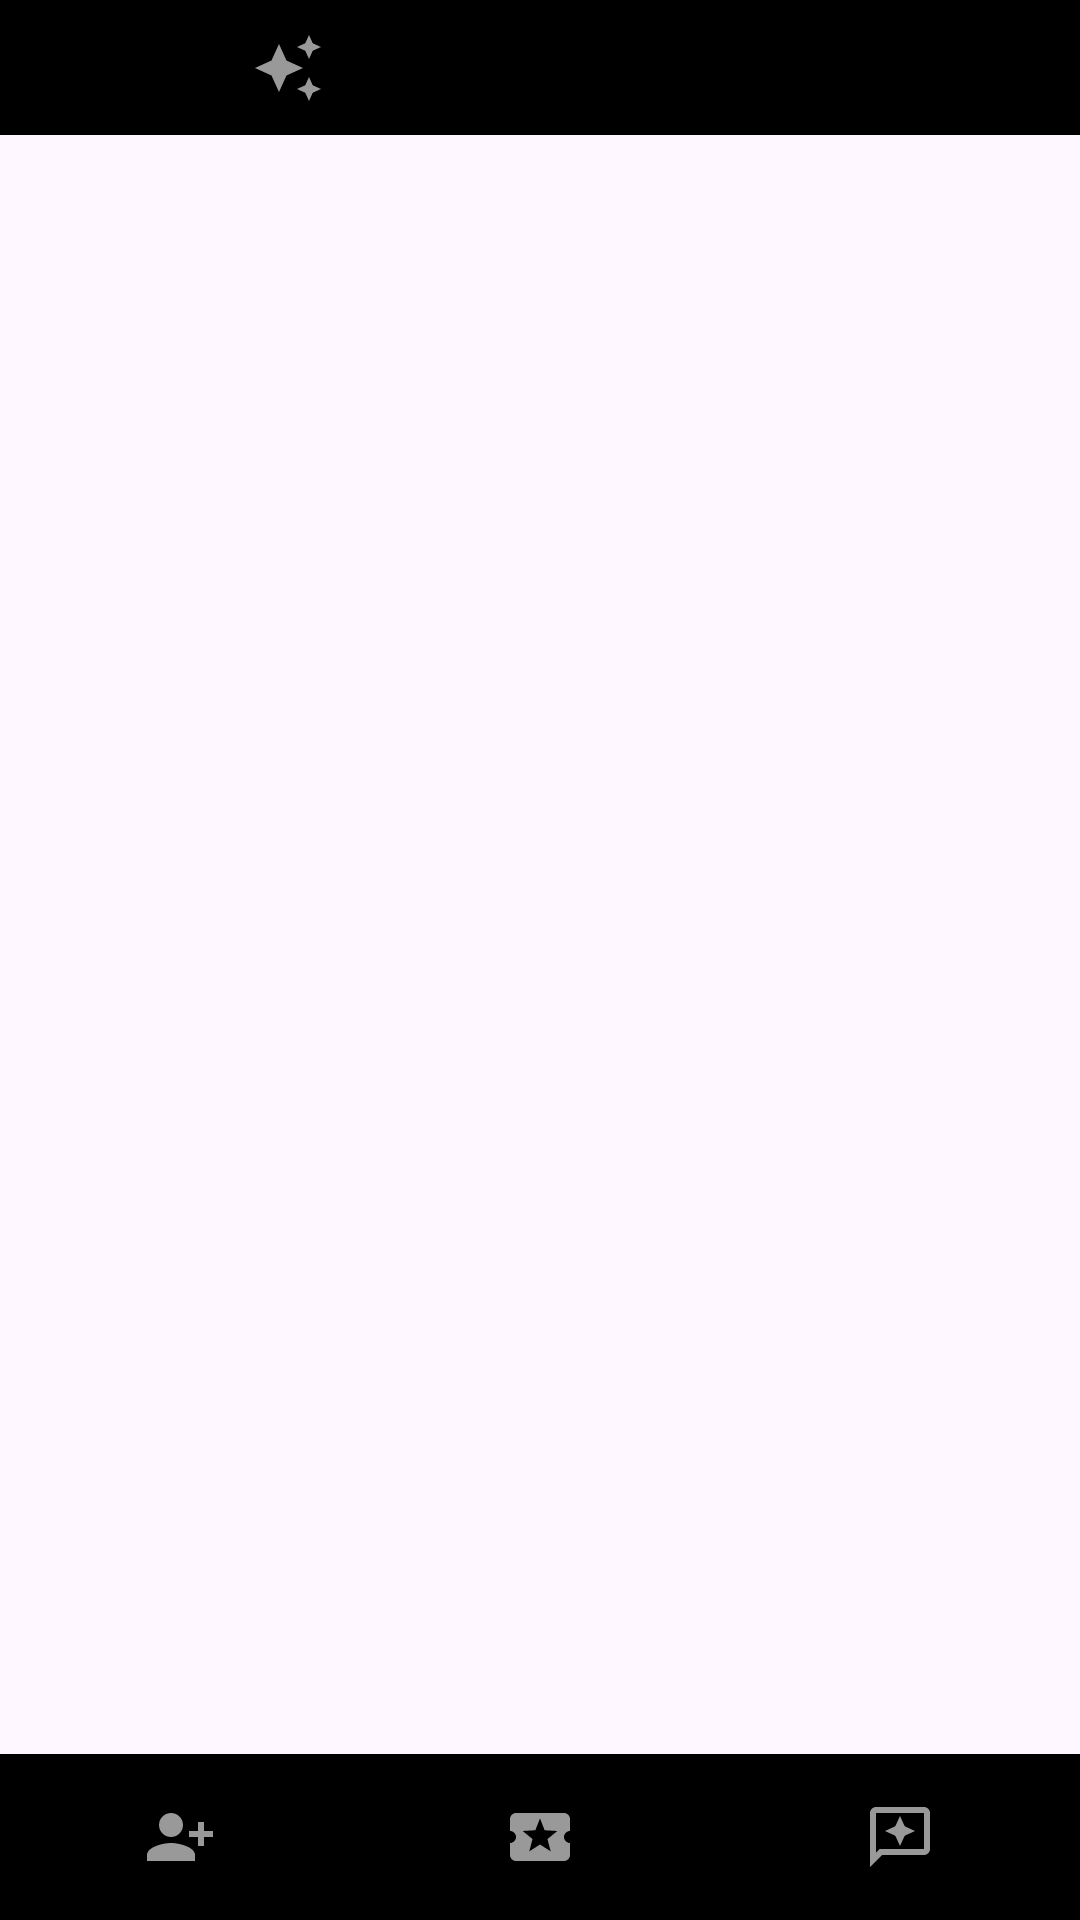

Named icons in this screenshot (1080 × 1920) and their bounding boxes, (x1, y1, x2, y2):
local activity: (510, 1813, 570, 1861)
person add: (147, 1813, 213, 1861)
reviews: (870, 1807, 930, 1867)
